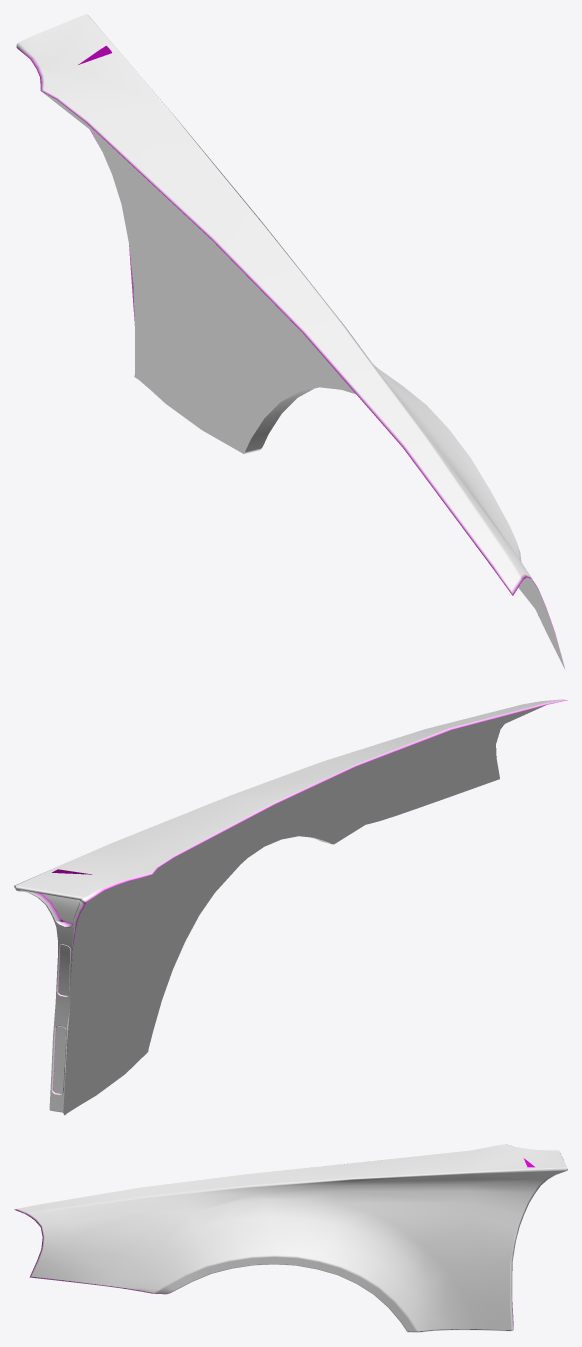
The model's file is Car_Nissan_SkylineGTRVspecR34_1999_FenderFL_SetE.fbx.
3 views of the same model, one above another, from view 1: azimuth 30°, elevation 25°; view 2: azimuth 150°, elevation 25°; view 3: azimuth 270°, elevation 25° (orthographic). The views are drawn at different scales.
Parts seen in each view (by area): view 1: FenderFL 6; view 2: FenderFL 6; view 3: FenderFL 6.
Part boxes in pixels (box(x1,y1,x2,y2)): FenderFL 6: box(16, 14, 565, 669); FenderFL 6: box(14, 699, 567, 1115); FenderFL 6: box(14, 1144, 567, 1332).
Size of the model in its own units: 0.2093 by 0.423 by 1.32.
